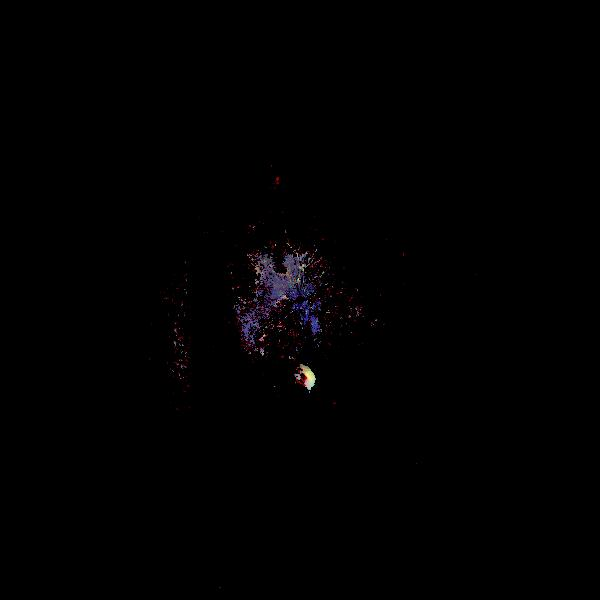roost: (289, 360, 319, 390), (266, 171, 284, 189)
